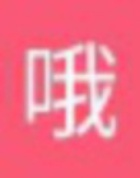TextView: (1, 1, 139, 177)
